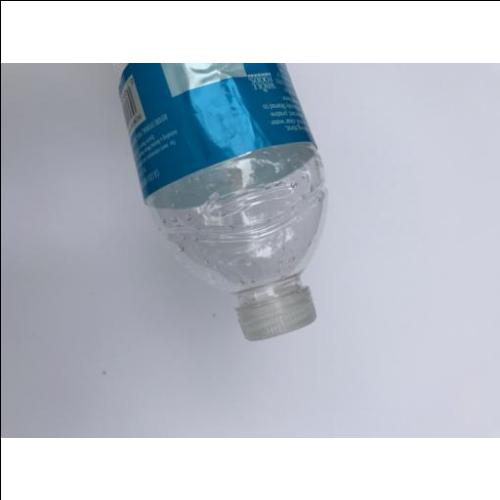plastic: (116, 65, 328, 341)
